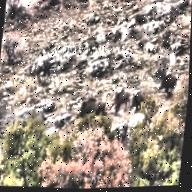boar: (74, 91, 108, 124), (107, 84, 136, 121)
